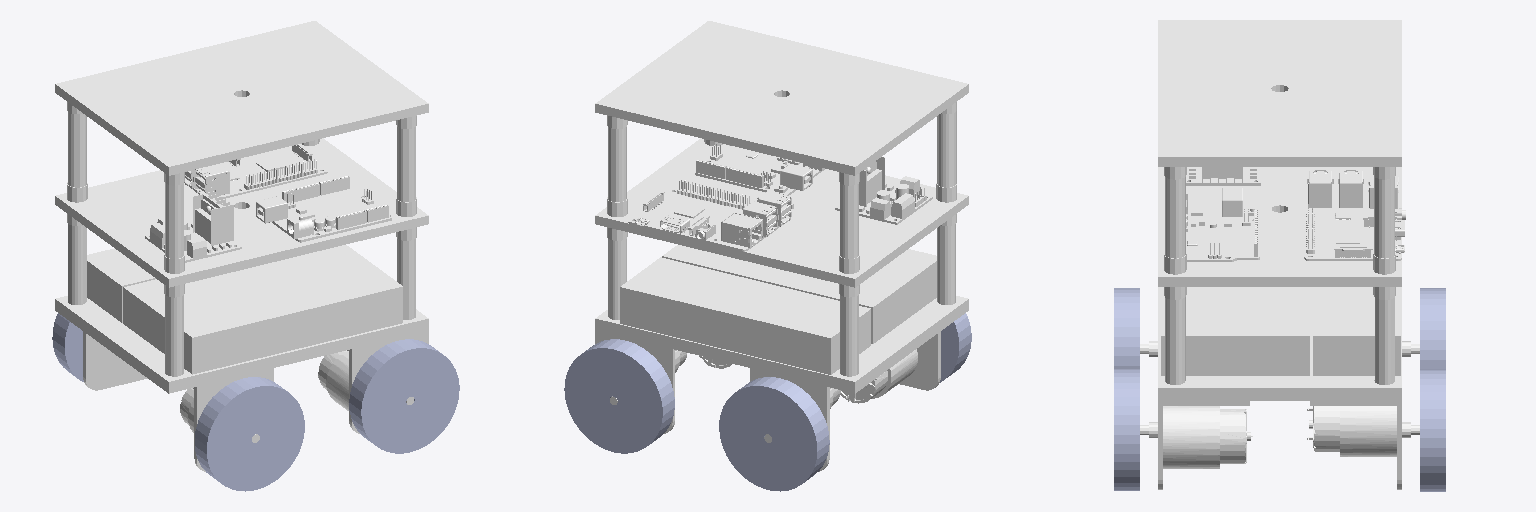
robot.urdf — fourwheeler_robot_screen:
<?xml version="1.0" encoding="utf-8"?>
<!-- This URDF was automatically created by SolidWorks to URDF Exporter! Originally created by [author] ([email redacted]) 
     Commit Version: 1.5.1-0-g916b5db  Build Version: 1.5.7152.31018
     For more information, please see http://wiki.ros.org/sw_urdf_exporter -->
<robot
  name="fourwheeler_robot_screen">
  <link
    name="base_link">
    <inertial>
      <origin
        xyz="0.00206647074983284 -6.07230821784443E-05 0.0365949895446206"
        rpy="0 0 0" />
      <mass
        value="1.30861421786989" />
      <inertia
        ixx="0.00118698540381072"
        ixy="7.76288032047299E-07"
        ixz="9.12225849751991E-08"
        iyy="0.00251688426098245"
        iyz="9.74881453619024E-07"
        izz="0.00356546721181814" />
    </inertial>
    <visual>
      <origin
        xyz="0 0 0"
        rpy="0 0 0" />
      <geometry>
        <mesh
          filename="package://fourwheeler_robot_screen/meshes/base_link.STL" />
      </geometry>
      <material
        name="">
        <color
          rgba="1 1 1 1" />
      </material>
    </visual>
    <collision>
      <origin
        xyz="0 0 0"
        rpy="0 0 0" />
      <geometry>
        <mesh
          filename="package://fourwheeler_robot_screen/meshes/base_link.STL" />
      </geometry>
    </collision>
  </link>
  <link
    name="front_lw">
    <inertial>
      <origin
        xyz="0.0650000000000002 0.0875 -0.0314999999999996"
        rpy="0 0 0" />
      <mass
        value="5.73026500014778E-05" />
      <inertia
        ixx="1.87522922129836E-08"
        ixy="6.30311626765408E-25"
        ixz="1.15836951265248E-24"
        iyy="3.53557350509118E-08"
        iyz="4.23516473627146E-25"
        izz="1.87522922129836E-08" />
    </inertial>
    <visual>
      <origin
        xyz="0 0 0"
        rpy="0 0 0" />
      <geometry>
        <mesh
          filename="package://fourwheeler_robot_screen/meshes/front_lw.STL" />
      </geometry>
      <material
        name="">
        <color
          rgba="0.792156862745098 0.819607843137255 0.933333333333333 1" />
      </material>
    </visual>
    <collision>
      <origin
        xyz="0 0 0"
        rpy="0 0 0" />
      <geometry>
        <mesh
          filename="package://fourwheeler_robot_screen/meshes/front_lw.STL" />
      </geometry>
    </collision>
  </link>
  <joint
    name="front_lj"
    type="revolute">
    <origin
      xyz="0 0 0"
      rpy="0 0 0" />
    <parent
      link="base_link" />
    <child
      link="front_lw" />
    <axis
      xyz="0 1 0" />
    <limit
      lower="0"
      upper="0"
      effort="30"
      velocity="30" />
  </joint>
  <link
    name="front_rw">
    <inertial>
      <origin
        xyz="0.065 -0.0875 -0.0315"
        rpy="0 0 0" />
      <mass
        value="5.73026500014778E-05" />
      <inertia
        ixx="1.87522922129836E-08"
        ixy="8.37933960516216E-25"
        ixz="1.96918584312631E-24"
        iyy="3.53557350509118E-08"
        iyz="9.54566426886194E-25"
        izz="1.87522922129836E-08" />
    </inertial>
    <visual>
      <origin
        xyz="0 0 0"
        rpy="0 0 0" />
      <geometry>
        <mesh
          filename="package://fourwheeler_robot_screen/meshes/front_rw.STL" />
      </geometry>
      <material
        name="">
        <color
          rgba="0.792156862745098 0.819607843137255 0.933333333333333 1" />
      </material>
    </visual>
    <collision>
      <origin
        xyz="0 0 0"
        rpy="0 0 0" />
      <geometry>
        <mesh
          filename="package://fourwheeler_robot_screen/meshes/front_rw.STL" />
      </geometry>
    </collision>
  </link>
  <joint
    name="front_rj"
    type="revolute">
    <origin
      xyz="0 0 0"
      rpy="0 0 0" />
    <parent
      link="base_link" />
    <child
      link="front_rw" />
    <axis
      xyz="0 -1 0" />
    <limit
      lower="0"
      upper="0"
      effort="30"
      velocity="30" />
  </joint>
  <link
    name="back_lw">
    <inertial>
      <origin
        xyz="-0.045 0.0875 -0.0315"
        rpy="0 0 0" />
      <mass
        value="5.73026500014779E-05" />
      <inertia
        ixx="1.87522922129836E-08"
        ixy="7.19647132921139E-26"
        ixz="7.81675985339809E-25"
        iyy="3.53557350509118E-08"
        iyz="-1.86942818436985E-25"
        izz="1.87522922129836E-08" />
    </inertial>
    <visual>
      <origin
        xyz="0 0 0"
        rpy="0 0 0" />
      <geometry>
        <mesh
          filename="package://fourwheeler_robot_screen/meshes/back_lw.STL" />
      </geometry>
      <material
        name="">
        <color
          rgba="0.792156862745098 0.819607843137255 0.933333333333333 1" />
      </material>
    </visual>
    <collision>
      <origin
        xyz="0 0 0"
        rpy="0 0 0" />
      <geometry>
        <mesh
          filename="package://fourwheeler_robot_screen/meshes/back_lw.STL" />
      </geometry>
    </collision>
  </link>
  <joint
    name="back_lj"
    type="revolute">
    <origin
      xyz="0 0 0"
      rpy="0 0 0" />
    <parent
      link="base_link" />
    <child
      link="back_lw" />
    <axis
      xyz="0 1 0" />
    <limit
      lower="0"
      upper="0"
      effort="30"
      velocity="30" />
  </joint>
  <link
    name="back_rw">
    <inertial>
      <origin
        xyz="-0.0450000000000001 -0.0875 -0.0315"
        rpy="0 0 0" />
      <mass
        value="5.73026500014778E-05" />
      <inertia
        ixx="1.87522922129836E-08"
        ixy="-2.10103875588469E-25"
        ixz="8.53918579618948E-25"
        iyy="3.53557350509118E-08"
        iyz="3.15982993995257E-25"
        izz="1.87522922129836E-08" />
    </inertial>
    <visual>
      <origin
        xyz="0 0 0"
        rpy="0 0 0" />
      <geometry>
        <mesh
          filename="package://fourwheeler_robot_screen/meshes/back_rw.STL" />
      </geometry>
      <material
        name="">
        <color
          rgba="0.792156862745098 0.819607843137255 0.933333333333333 1" />
      </material>
    </visual>
    <collision>
      <origin
        xyz="0 0 0"
        rpy="0 0 0" />
      <geometry>
        <mesh
          filename="package://fourwheeler_robot_screen/meshes/back_rw.STL" />
      </geometry>
    </collision>
  </link>
  <joint
    name="back_rj"
    type="revolute">
    <origin
      xyz="0 0 0"
      rpy="0 0 0" />
    <parent
      link="base_link" />
    <child
      link="back_rw" />
    <axis
      xyz="0 -1 0" />
    <limit
      lower="0"
      upper="0"
      effort="30"
      velocity="30" />
  </joint>
</robot>

--- Facts derived from the render (not from the file) ---
The picture shows the robot from 3 angles, left to right: view 1: azimuth 30°, elevation 25°; view 2: azimuth 150°, elevation 25°; view 3: azimuth 270°, elevation 25°; orthographic projection.
Model fourwheeler_robot_screen with 5 links and 4 joints (4 revolute), rooted at base_link, posed all joints at 0.
Links seen in each view (by area): view 1: base_link, front_rw, back_rw, back_lw; view 2: base_link, front_lw, back_lw, back_rw; view 3: base_link, front_lw, front_rw, back_lw, back_rw.
Boxes of the visible links, x1=… form: base_link: x1=55, y1=21, x2=428, y2=471; front_rw: x1=349, y1=339, x2=459, y2=453; back_rw: x1=195, y1=377, x2=304, y2=491; back_lw: x1=52, y1=313, x2=83, y2=381; base_link: x1=595, y1=21, x2=968, y2=471; front_lw: x1=564, y1=339, x2=674, y2=453; back_lw: x1=719, y1=377, x2=829, y2=491; back_rw: x1=940, y1=313, x2=971, y2=382; base_link: x1=1140, y1=20, x2=1419, y2=489; front_lw: x1=1420, y1=369, x2=1445, y2=491; front_rw: x1=1114, y1=369, x2=1139, y2=490; back_lw: x1=1420, y1=288, x2=1445, y2=368; back_rw: x1=1114, y1=288, x2=1139, y2=368.
Bounding box of the posed robot: 0.1925 × 0.19 × 0.2205 m (x, y, z).
5 mesh visuals loaded from 5 distinct referenced files (5 binary STL).